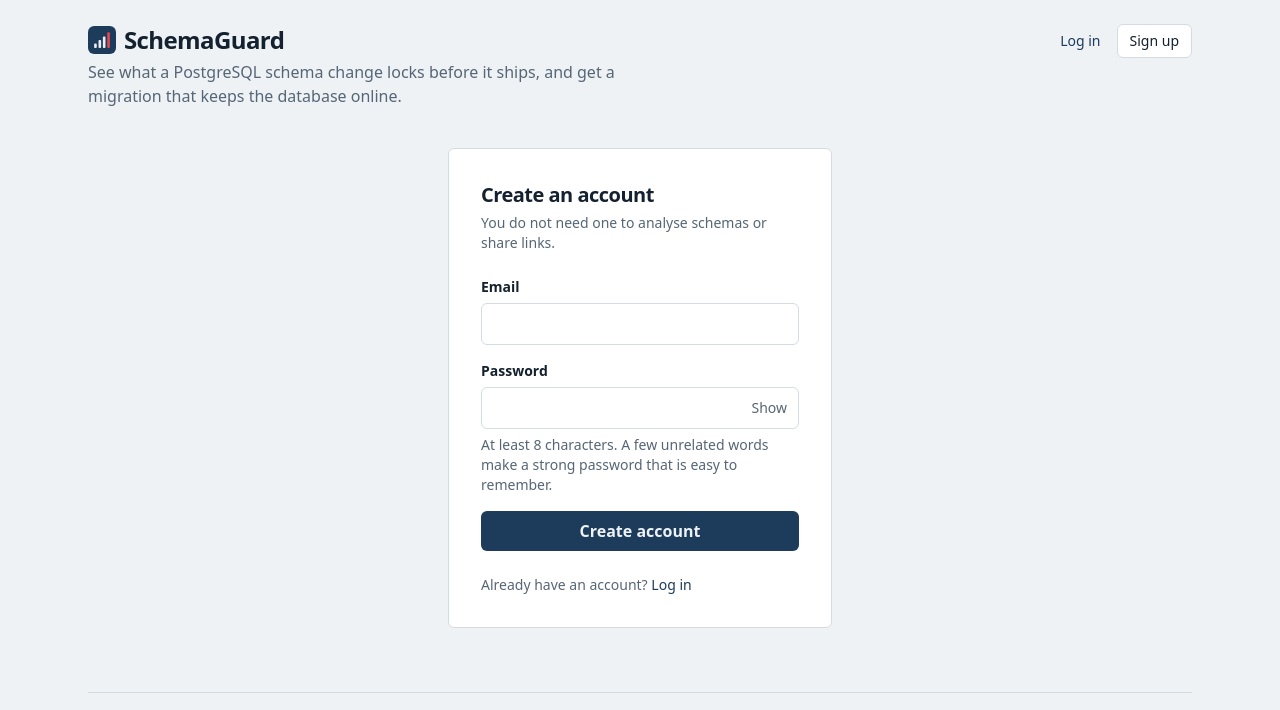
Scenario: accounts › shows the password on request, so a long passphrase can be checked
Type "new@example.com" into the field labelled "Email" at (640, 324), box [481,303,799,345]
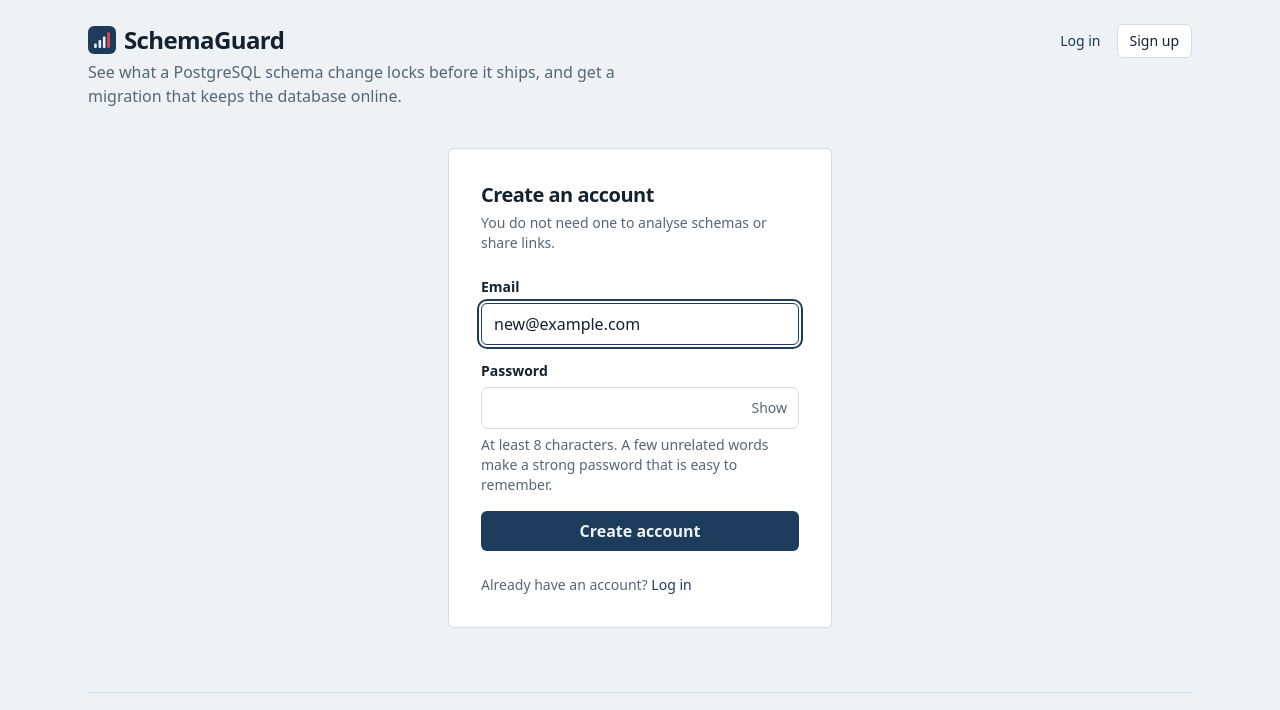
Type "a long passphrase" into the password field labelled "Password" at (640, 408), box [481,387,799,429]
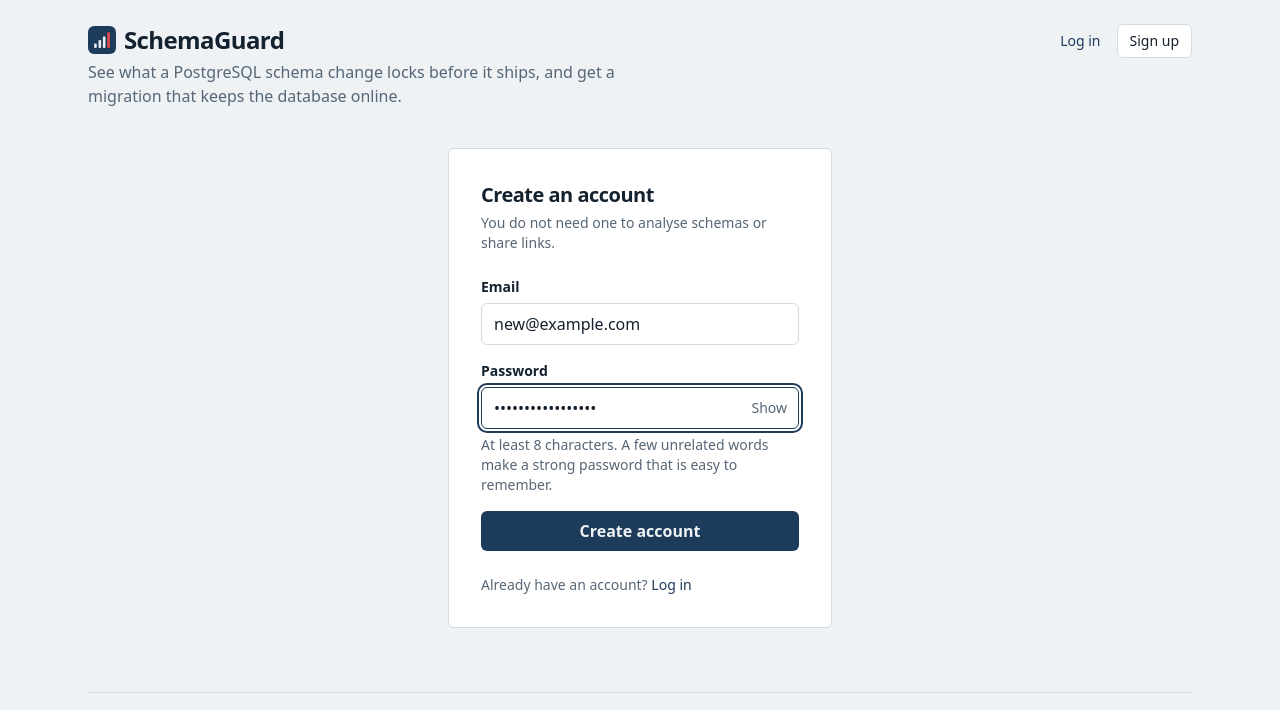
Click the button with aria-label "Show password" at (769, 408), box [744,391,795,425]
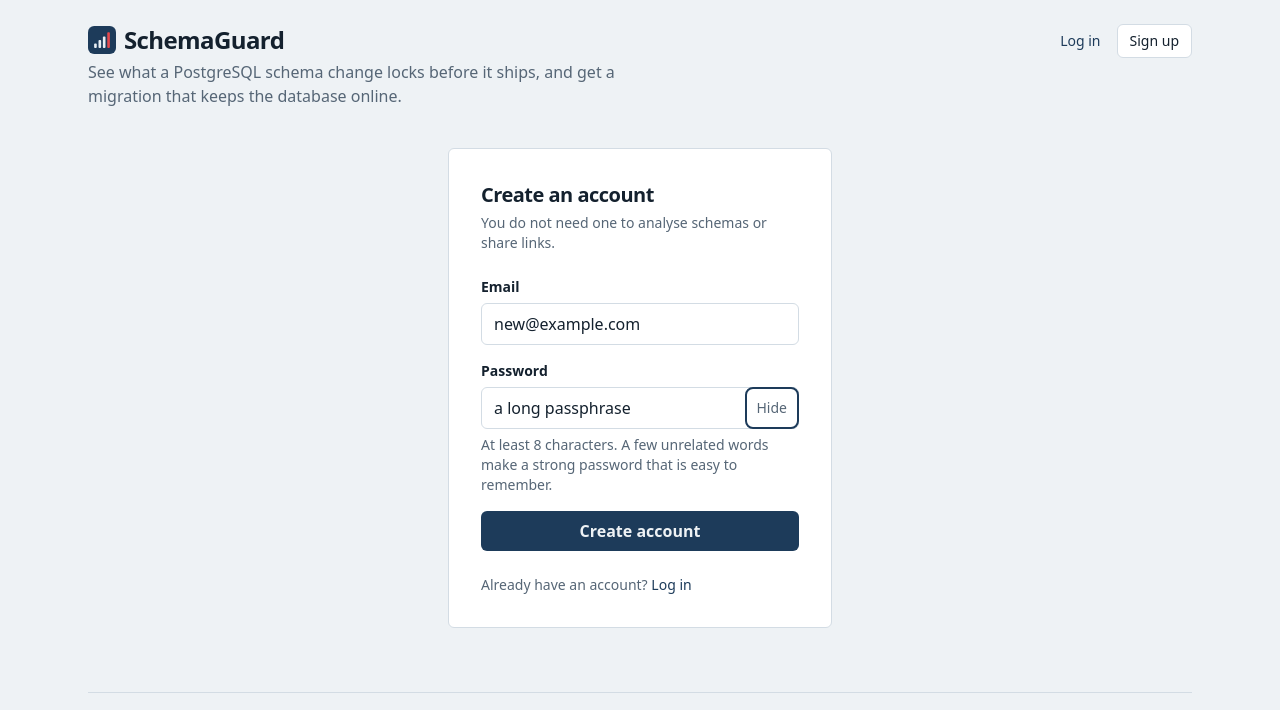
Check: the field labelled "Password" shows its text, box [481,387,799,429]
